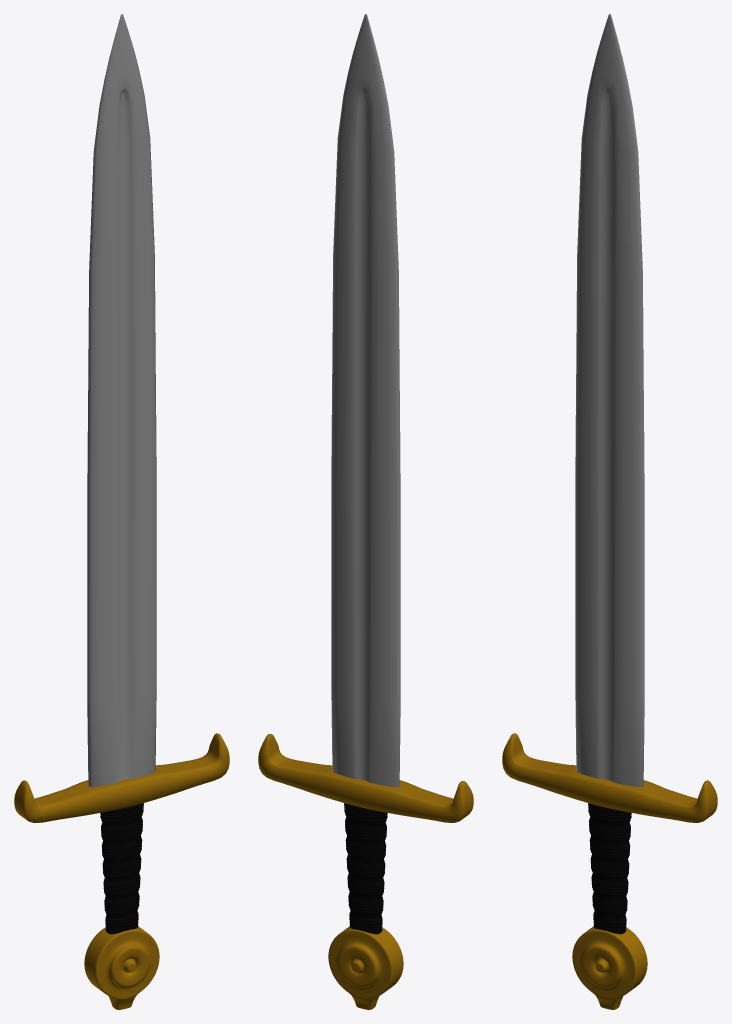
File: Sword.fbx
3 renders of one model, left to right at view 1: azimuth 30°, elevation 25°; view 2: azimuth 150°, elevation 25°; view 3: azimuth 330°, elevation 25°, orthographic.
Parts seen in each view (by area): view 1: Sword; view 2: Sword; view 3: Sword.
Boxes of the visible parts, x1,y1,x2,y2 form: Sword: [14, 14, 229, 1009]; Sword: [258, 14, 473, 1009]; Sword: [502, 14, 717, 1009].
Bounding box in the file's own units: 103 × 477 × 17.89.
1 material, 1 textured.
